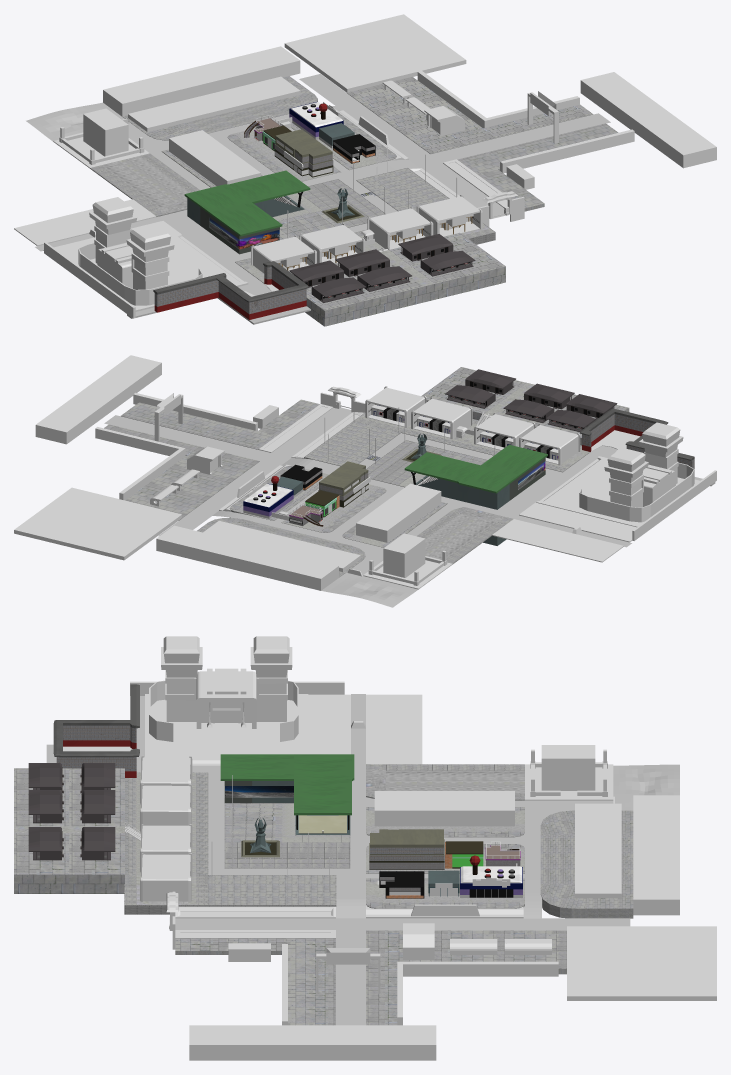
The model's file is BCEMapV2 1.fbx.
3 renders of one model, top to bottom at view 1: azimuth 30°, elevation 25°; view 2: azimuth 150°, elevation 25°; view 3: azimuth 270°, elevation 25°, orthographic. The views are drawn at different scales.
Parts seen in each view (by area): view 1: morebuilding, Cube.041, Station, Plane.007, Cube.037, Tunnel, Cube.045, MoreShop, Plane.030, Cube.038, moreshop, ShopArea.003 (+49 smaller); view 2: morebuilding, Station, Plane.007, Tunnel, Cube.037, Cube.038, Plane.030, moreshop, TreePlacer.003, MoreShop, Plane.004, Cube.041 (+55 smaller); view 3: morebuilding, Tunnel, Cube.041, Station, Cube.037, ShopArea.003, Plane.004, Plane.007, Cube.038, Plane.030, moreshop, MoreShop (+56 smaller).
Boxes of the visible parts, bbox=[...] form: morebuilding: bbox=[284, 14, 466, 92]; Cube.041: bbox=[293, 232, 505, 326]; Station: bbox=[184, 170, 310, 254]; Plane.007: bbox=[103, 46, 300, 116]; Cube.037: bbox=[347, 76, 593, 154]; Tunnel: bbox=[580, 72, 716, 168]; Cube.045: bbox=[153, 261, 308, 319]; MoreShop: bbox=[128, 76, 300, 131]; Plane.030: bbox=[299, 74, 505, 218]; Cube.038: bbox=[457, 123, 618, 211]; moreshop: bbox=[169, 130, 260, 185]; ShopArea.003: bbox=[122, 76, 317, 140]; morebuilding: bbox=[14, 487, 181, 560]; Station: bbox=[404, 444, 547, 545]; Plane.007: bbox=[156, 525, 338, 590]; Tunnel: bbox=[35, 355, 161, 444]; Cube.037: bbox=[104, 424, 259, 520]; Cube.038: bbox=[121, 399, 319, 449]; Plane.030: bbox=[158, 407, 352, 536]; moreshop: bbox=[356, 483, 441, 542]; TreePlacer.003: bbox=[492, 519, 623, 562]; MoreShop: bbox=[203, 520, 360, 571]; Plane.004: bbox=[536, 456, 699, 527]; Cube.041: bbox=[421, 367, 629, 445]; morebuilding: bbox=[567, 926, 716, 1000]; Tunnel: bbox=[189, 1025, 436, 1060]; Cube.041: bbox=[14, 768, 124, 893]; Station: bbox=[220, 754, 354, 834]; Cube.037: bbox=[366, 930, 566, 1025]; ShopArea.003: bbox=[540, 810, 633, 918]; Plane.004: bbox=[145, 694, 308, 765]; Plane.007: bbox=[633, 795, 679, 915]; Cube.038: bbox=[175, 938, 335, 1025]; Plane.030: bbox=[169, 918, 630, 930]; moreshop: bbox=[374, 791, 514, 826]; MoreShop: bbox=[575, 803, 621, 898].
Bounding box in the file's own units: 26785 × 4246 × 22286.
